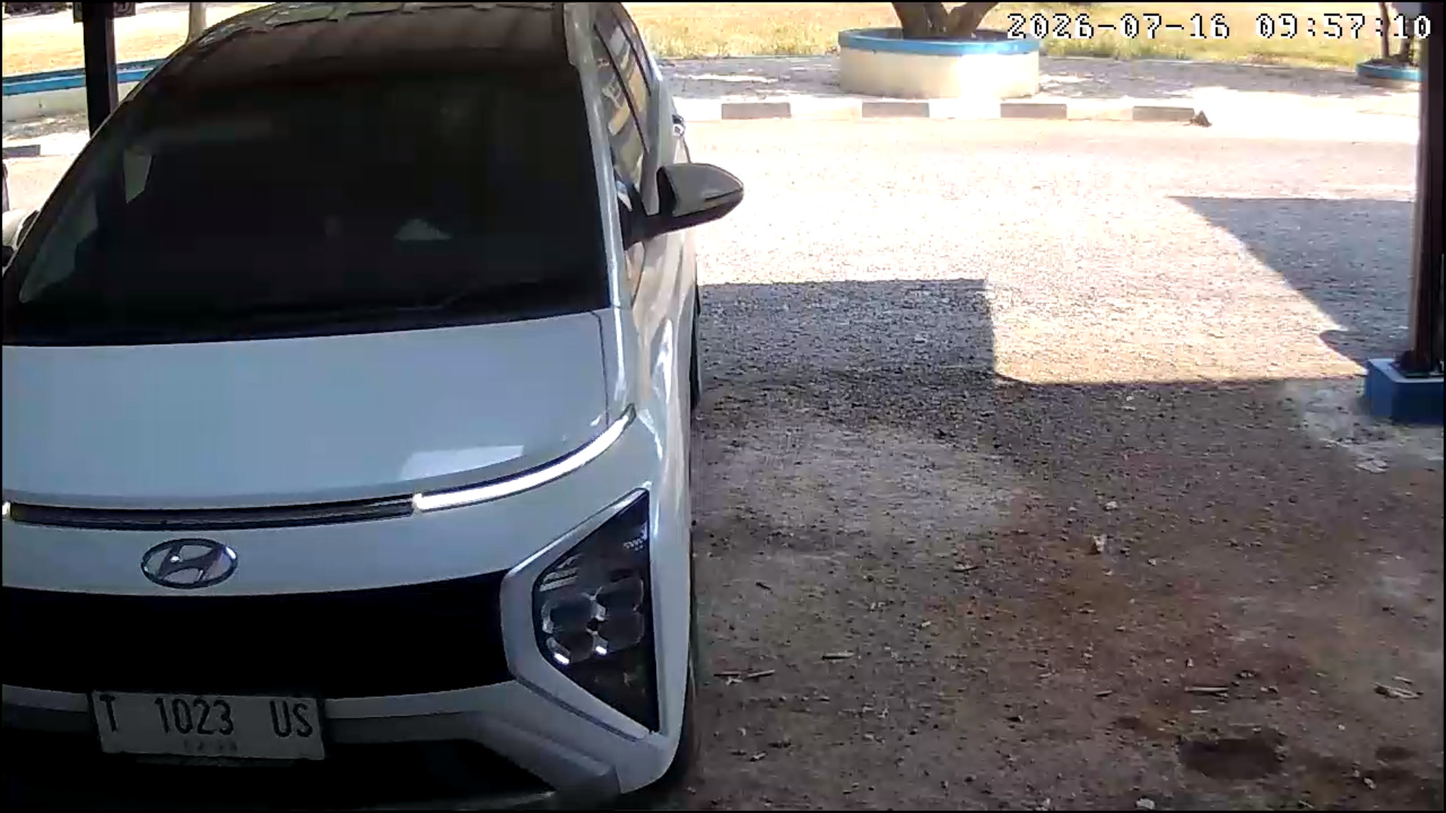plat nomor: (87, 686, 331, 766)
